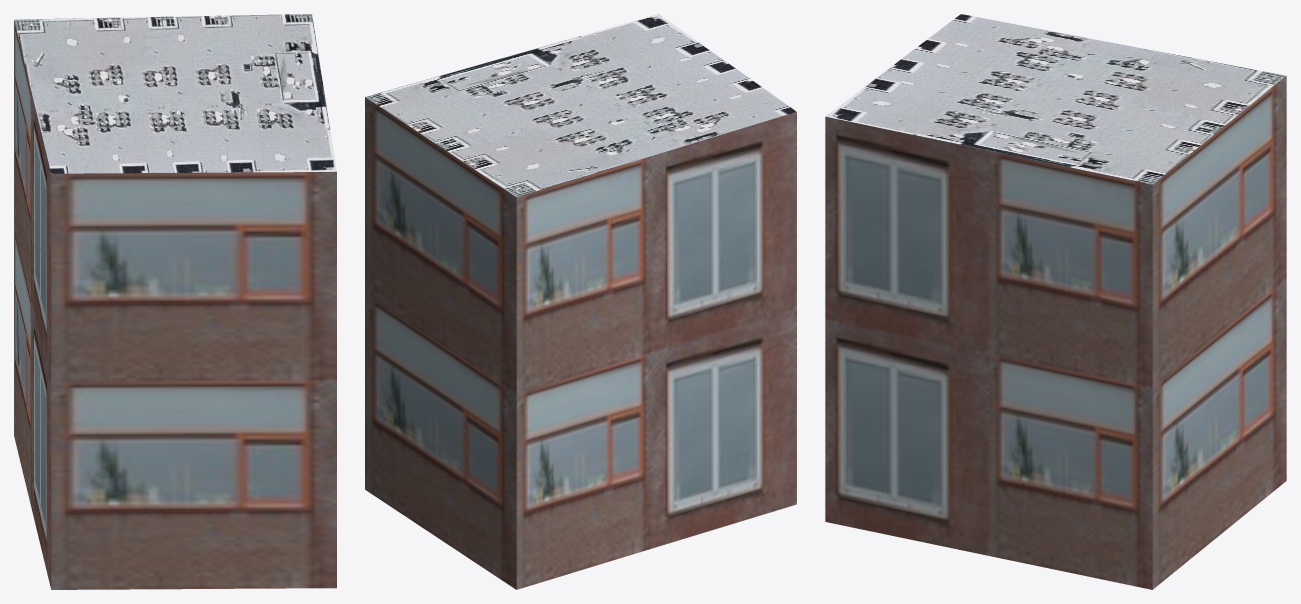
Rendered from ResTex__1012.fbx.
The picture shows the model from 3 angles, left to right: view 1: azimuth 30°, elevation 25°; view 2: azimuth 150°, elevation 25°; view 3: azimuth 270°, elevation 25°; orthographic projection. The views are drawn at different scales.
Visible parts, largest first — view 1: CityEngineMaterial_19_m, CityEngineMaterial_15_m; view 2: CityEngineMaterial_19_m, CityEngineMaterial_15_m; view 3: CityEngineMaterial_19_m, CityEngineMaterial_15_m.
Part boxes in pixels (x1,y1,x2,y2): CityEngineMaterial_19_m: [14, 20, 336, 589]; CityEngineMaterial_15_m: [14, 14, 336, 173]; CityEngineMaterial_19_m: [365, 97, 796, 589]; CityEngineMaterial_15_m: [365, 14, 796, 197]; CityEngineMaterial_19_m: [825, 76, 1286, 589]; CityEngineMaterial_15_m: [826, 14, 1285, 184].
Bounding box in the file's own units: 5.42 × 6 × 6.19.
2 materials, 2 textured.
